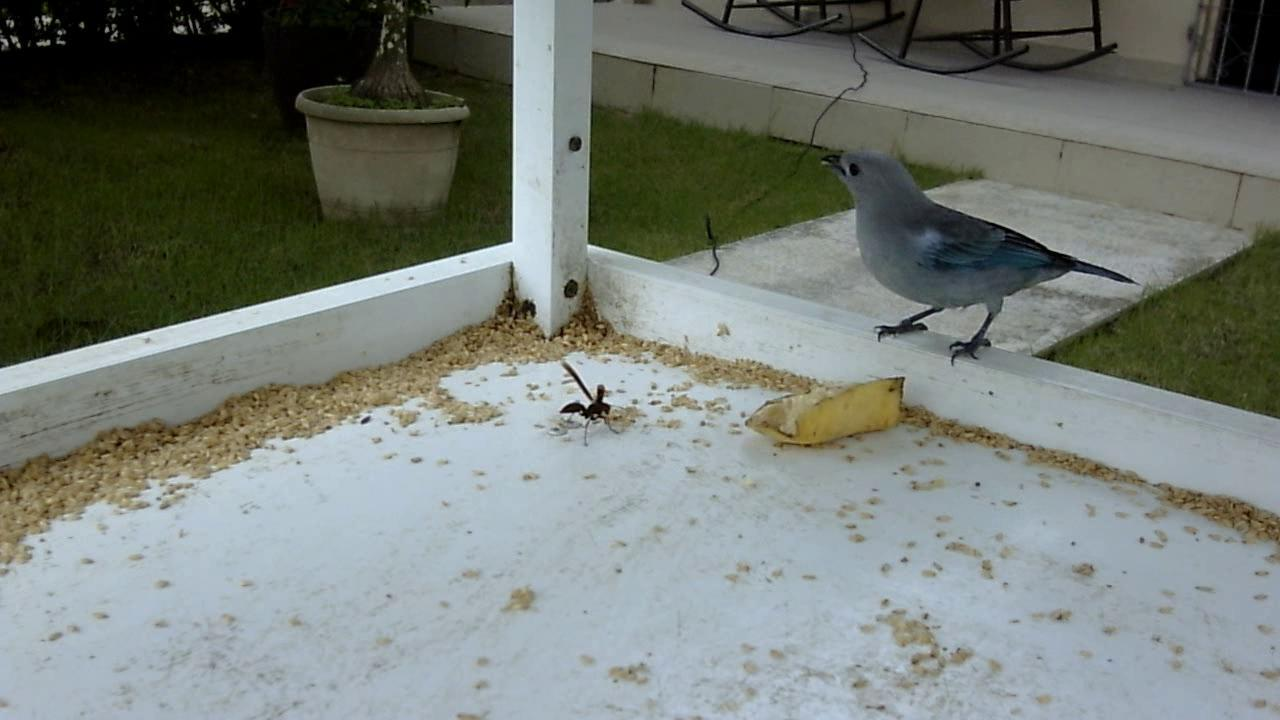sanhaco_da_amazonia: (810, 146, 1141, 376)
